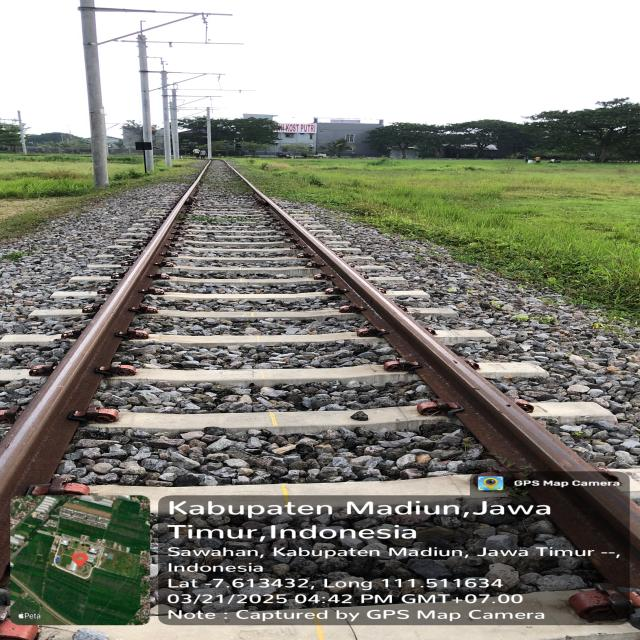rail-detection: (250, 185, 640, 587), (0, 176, 200, 527)
